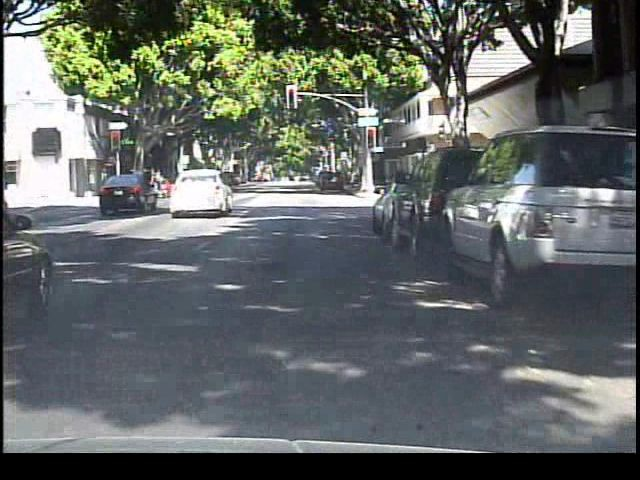person: (152, 164, 169, 198)
